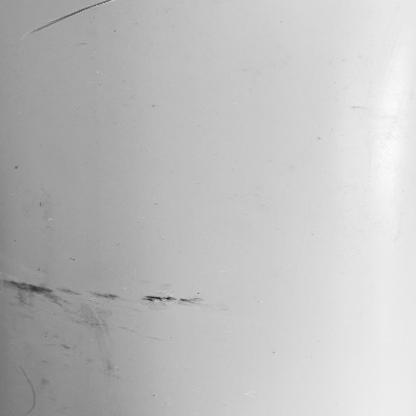sunshang: (23, 1, 117, 37), (16, 366, 40, 416)
